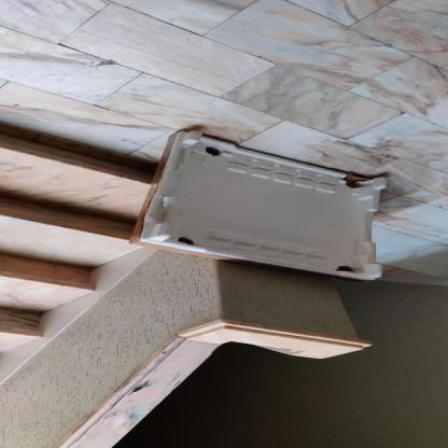Carton: (130, 134, 366, 284), (345, 175, 369, 189)
Styrofoam piece: (140, 132, 389, 281)
